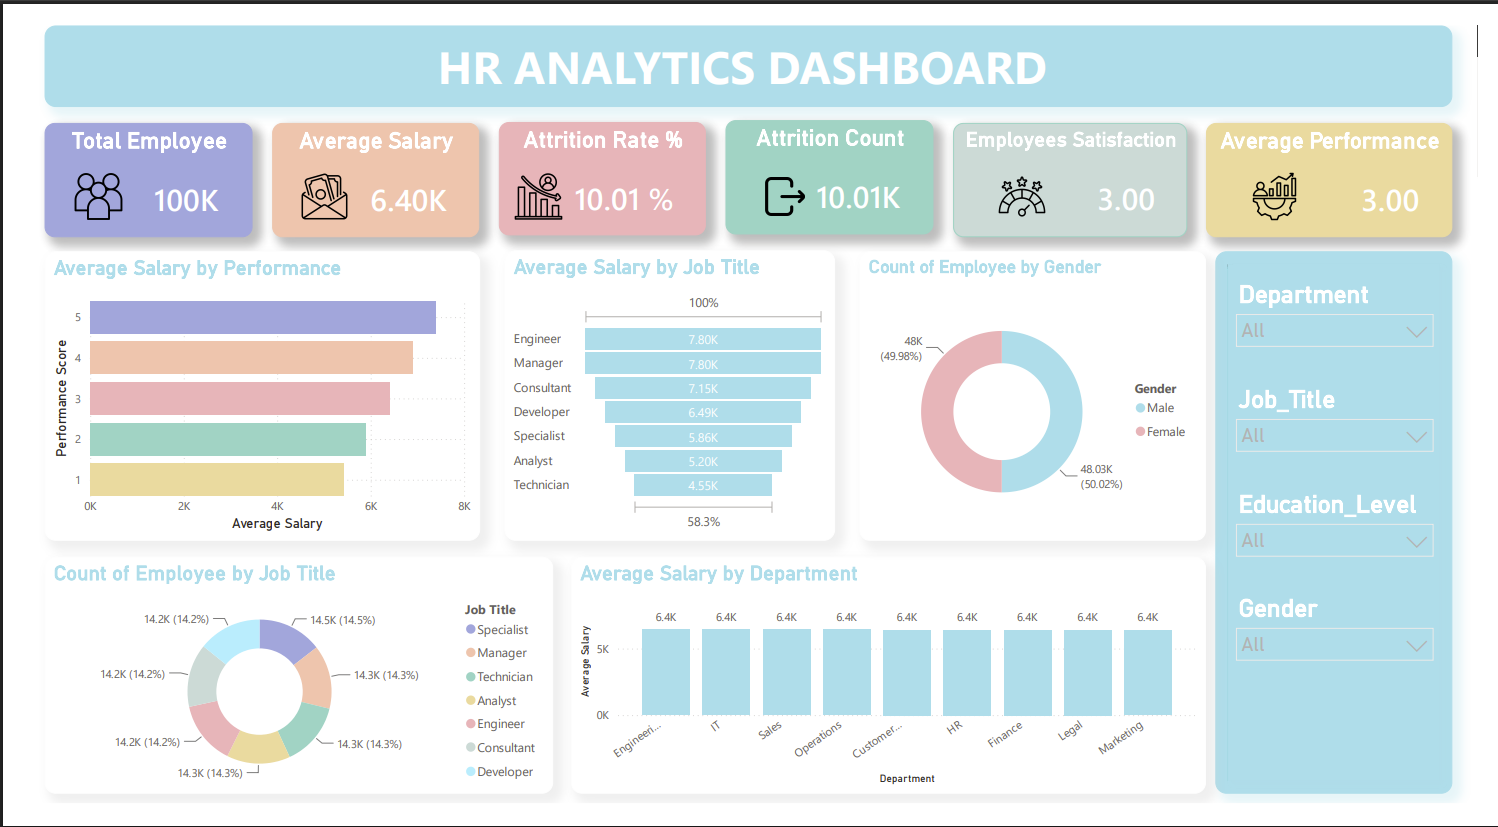

This screenshot's page, from the dashboard's own definition file:
{"tool":"powerbi","page":{"name":"HR","canvas":[1550,830],"ordinal":0},"visuals":[{"type":"textbox","box":[21.4,0,1502.9,87.1],"z":0},{"type":"cardVisual","title":"Total Employee ","fields":{"Data":["CountNonNull(Extended_Employee_Performance_a.Employee_ID)"]},"box":[21.4,104.3,221.4,121.4],"z":1000},{"type":"cardVisual","title":"Average Salary","fields":{"Data":["Avg(Extended_Employee_Performance_a.Monthly_Salary)"]},"box":[263.7,104.3,221.4,121.4],"z":2000},{"type":"cardVisual","title":"Attrition Rate %","fields":{"Data":["Avg(Extended_Employee_Performance_a.Resigned_num)"]},"box":[506,102.9,221.4,121.4],"z":3000},{"type":"cardVisual","title":"Attrition Count","fields":{"Data":["Sum(Extended_Employee_Performance_a.Resigned_num)"]},"box":[748.3,101.4,221.4,121.4],"z":4000},{"type":"cardVisual","title":"Average Performance ","fields":{"Data":["Avg(Extended_Employee_Performance_a.Performance_Score)"]},"box":[1261.4,104.3,262.9,121.4],"z":5000},{"type":"cardVisual","title":"Employees Satisfaction ","fields":{"Data":["Avg(Extended_Employee_Performance_a.Employee_Satisfaction_Score)"]},"box":[990.6,104.3,250,121.4],"z":6000},{"type":"shape","box":[1271.4,241.4,252.9,578.6],"z":7000},{"type":"slicer","fields":{"Values":["Extended_Employee_Performance_a.Department"]},"box":[1282.9,265.7,231.4,92.9],"z":8000},{"type":"slicer","fields":{"Values":["Extended_Employee_Performance_a.Job_Title"]},"box":[1282.9,377.6,231.4,92.9],"z":9000},{"type":"slicer","fields":{"Values":["Extended_Employee_Performance_a.Education_Level"]},"box":[1282.9,489.5,231.4,92.9],"z":10000},{"type":"slicer","fields":{"Values":["Extended_Employee_Performance_a.Gender"]},"box":[1282.9,601.4,231.4,92.9],"z":11000},{"type":"barChart","title":"Average Salary by Performance","fields":{"Category":["Extended_Employee_Performance_a.Performance_Score"],"Series":["Extended_Employee_Performance_a.Performance_Score"],"Y":["Avg(Extended_Employee_Performance_a.Monthly_Salary)"]},"box":[21.4,241.4,464.3,308.6],"z":12000},{"type":"funnel","title":"Average Salary by Job Title","fields":{"Category":["Extended_Employee_Performance_a.Job_Title"],"Y":["Avg(Extended_Employee_Performance_a.Monthly_Salary)"]},"box":[512.1,240,352.9,310],"z":13000},{"type":"columnChart","title":"Average Salary by Department","fields":{"Category":["Extended_Employee_Performance_a.Department"],"Y":["Avg(Extended_Employee_Performance_a.Monthly_Salary)"]},"box":[582.9,567.1,678.6,252.9],"z":14000},{"type":"donutChart","title":"Count of Employee by Job Title","fields":{"Category":["Extended_Employee_Performance_a.Job_Title"],"Y":["Count(Extended_Employee_Performance_a.Employee_ID)"]},"box":[21.4,567.1,542.9,252.9],"z":15000},{"type":"donutChart","title":"Count of Employee by Gender","fields":{"Category":["Extended_Employee_Performance_a.Gender"],"Y":["CountNonNull(Extended_Employee_Performance_a.Employee_ID)"]},"box":[891.4,241.4,370,308.6],"z":16000},{"type":"image","box":[44,157,69,51],"z":17000},{"type":"image","box":[1030,157,69,51],"z":18000},{"type":"image","box":[783,162,57,41],"z":19000},{"type":"image","box":[514,157,69,51],"z":20000},{"type":"image","box":[285,157,69,51],"z":21000},{"type":"image","box":[1300,157,69,51],"z":22000}]}

Visuals, with their boxes on the page's 1550x830 design canvas (x1, y1, x2, y2). These are canvas units, not pixel positions in the 1498x827 screenshot, which may show the page scaled, cropped or inside an application window:
textbox: x1=21 y1=0 x2=1524 y2=87
"Total Employee " cardVisual: x1=21 y1=104 x2=243 y2=226
"Average Salary" cardVisual: x1=264 y1=104 x2=485 y2=226
"Attrition Rate %" cardVisual: x1=506 y1=103 x2=727 y2=224
"Attrition Count" cardVisual: x1=748 y1=101 x2=970 y2=223
"Average Performance " cardVisual: x1=1261 y1=104 x2=1524 y2=226
"Employees Satisfaction " cardVisual: x1=991 y1=104 x2=1241 y2=226
shape: x1=1271 y1=241 x2=1524 y2=820
slicer - Extended_Employee_Performance_a.Department: x1=1283 y1=266 x2=1514 y2=359
slicer - Extended_Employee_Performance_a.Job_Title: x1=1283 y1=378 x2=1514 y2=470
slicer - Extended_Employee_Performance_a.Education_Level: x1=1283 y1=490 x2=1514 y2=582
slicer - Extended_Employee_Performance_a.Gender: x1=1283 y1=601 x2=1514 y2=694
"Average Salary by Performance" barChart: x1=21 y1=241 x2=486 y2=550
"Average Salary by Job Title" funnel: x1=512 y1=240 x2=865 y2=550
"Average Salary by Department" columnChart: x1=583 y1=567 x2=1262 y2=820
"Count of Employee by Job Title" donutChart: x1=21 y1=567 x2=564 y2=820
"Count of Employee by Gender" donutChart: x1=891 y1=241 x2=1261 y2=550
image: x1=44 y1=157 x2=113 y2=208
image: x1=1030 y1=157 x2=1099 y2=208
image: x1=783 y1=162 x2=840 y2=203
image: x1=514 y1=157 x2=583 y2=208
image: x1=285 y1=157 x2=354 y2=208
image: x1=1300 y1=157 x2=1369 y2=208
